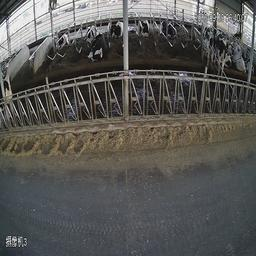cow: (201, 22, 214, 73), (214, 26, 226, 77), (228, 44, 246, 74), (90, 32, 107, 63), (161, 18, 178, 40), (53, 31, 69, 51), (85, 24, 98, 44), (138, 19, 151, 39), (110, 21, 123, 40)
